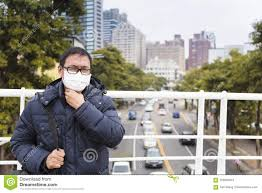masked: (56, 49, 95, 96)
